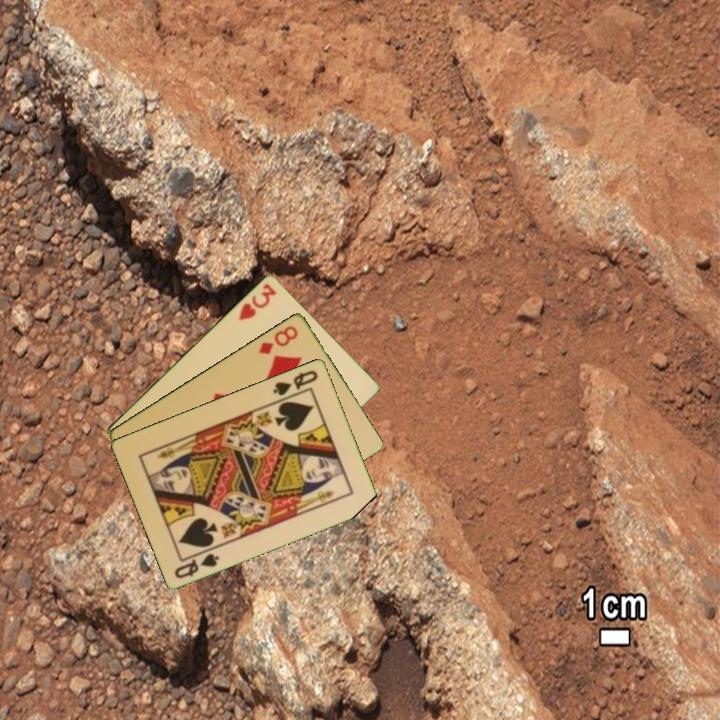3h: (235, 279, 279, 323)
8d: (255, 321, 301, 357)
Qs: (171, 544, 222, 581), (269, 366, 321, 398)
